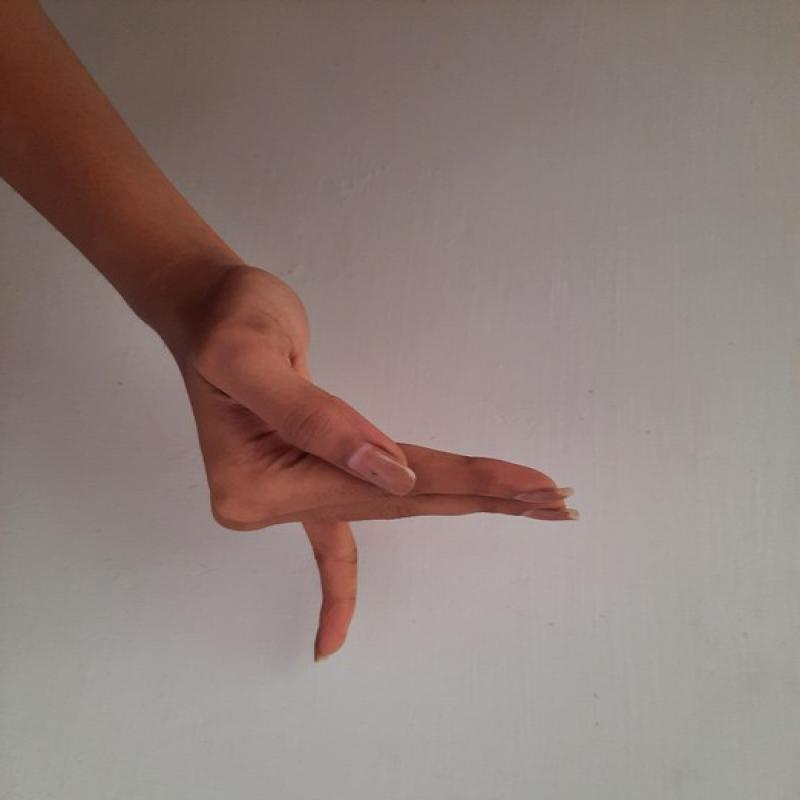Kartharee Mukham: (171, 249, 593, 667)
